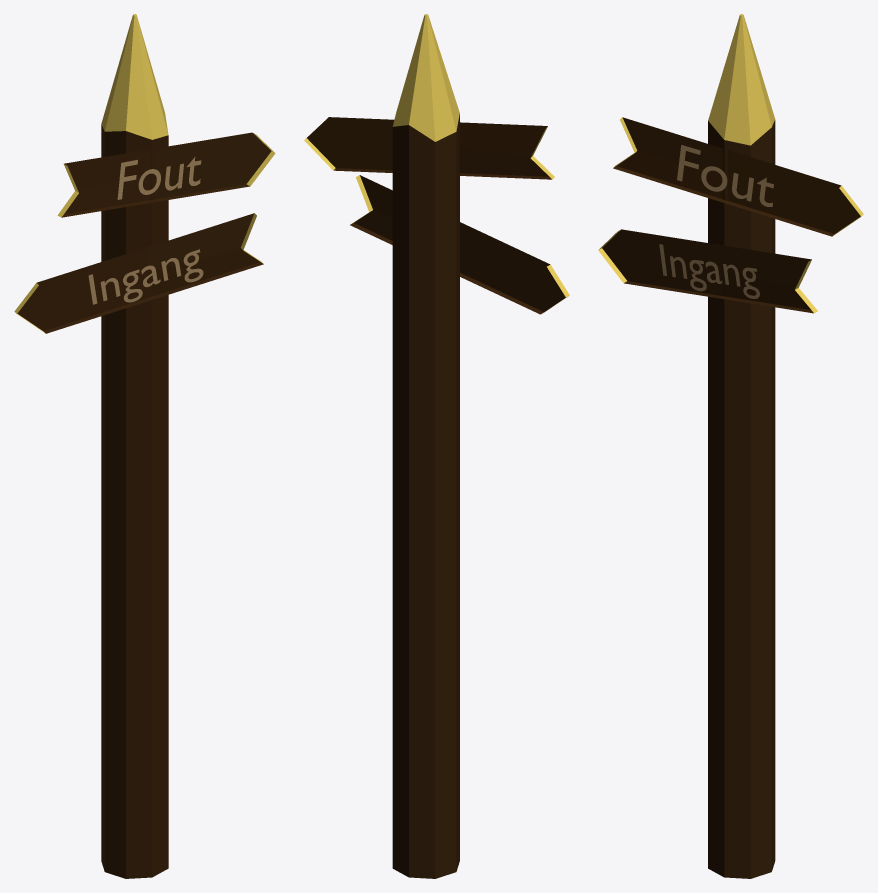
File: signpost.fbx
3 views of the same model, side by side, from view 1: azimuth 30°, elevation 25°; view 2: azimuth 150°, elevation 25°; view 3: azimuth 330°, elevation 25° (orthographic).
Visible parts, largest first — view 1: Cylinder, Plane, Plane.001, Text.001, Text; view 2: Cylinder, Plane.001, Plane; view 3: Cylinder, Plane.001, Plane, Text.001, Text.
Part boxes in pixels (left/top/right/bottom): Cylinder: left=101, top=14, right=168, bottom=878; Plane: left=14, top=213, right=263, bottom=333; Plane.001: left=57, top=132, right=275, bottom=217; Text.001: left=88, top=249, right=203, bottom=304; Text: left=117, top=157, right=201, bottom=199; Cylinder: left=392, top=14, right=459, bottom=878; Plane.001: left=304, top=117, right=554, bottom=179; Plane: left=350, top=175, right=569, bottom=314; Cylinder: left=708, top=14, right=775, bottom=878; Plane.001: left=613, top=117, right=863, bottom=236; Plane: left=598, top=229, right=817, bottom=313; Text.001: left=659, top=244, right=759, bottom=298; Text: left=677, top=145, right=773, bottom=206.
Bounding box in the file's own units: 59.73 × 186 × 18.11.
